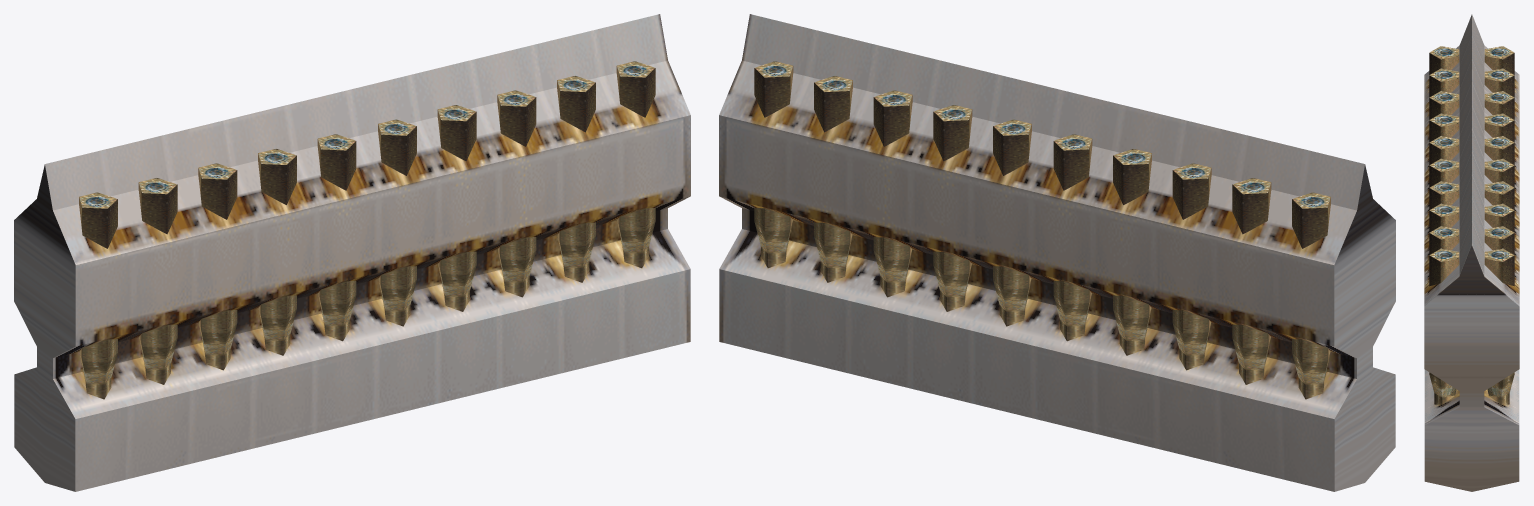
Rendered from rifle_ammobox.glb.
3 views of the same model, side by side, from view 1: azimuth 30°, elevation 25°; view 2: azimuth 150°, elevation 25°; view 3: azimuth 270°, elevation 25° (orthographic). The views are drawn at different scales.
Visible parts, largest first — view 1: Rifle box; view 2: Rifle box; view 3: Rifle box.
Boxes of the visible parts, box(x1,y1,x2,y2) form: Rifle box: box(14, 14, 690, 491); Rifle box: box(719, 14, 1395, 491); Rifle box: box(1424, 14, 1519, 491).
Bounding box in the file's own units: 0.5156 × 0.2553 × 0.0894.
11 materials, 11 textured.
